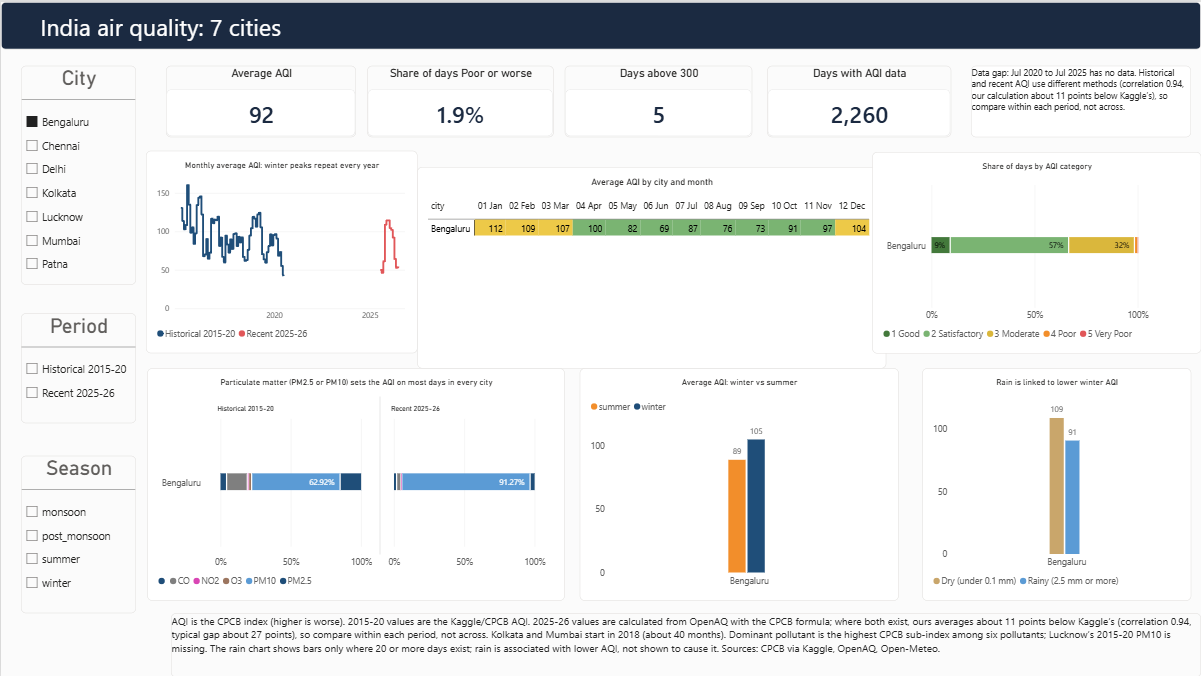

Layout of this report page (visuals, bound fields, positions):
{"tool":"powerbi","page":{"name":"Page 1","canvas":[1920,1080],"ordinal":0},"visuals":[{"type":"shape","box":[0,0,1920.1,76],"z":0},{"type":"textbox","box":[32,14,1298,62],"z":1000},{"type":"slicer","title":"City","fields":{"Values":["aqi_dashboard (2).city"]},"box":[32,102,184,350],"z":2000},{"type":"slicer","title":"Period","fields":{"Values":["aqi_dashboard (2).track"]},"box":[32,498,184,176],"z":3000},{"type":"slicer","title":"Season","fields":{"Values":["aqi_dashboard (2).season"]},"box":[32,726,184,252],"z":4000},{"type":"textbox","box":[1552,102,352,114],"z":5000},{"type":"cardVisual","title":"Average AQI","fields":{"Data":["aqi_dashboard.Average AQI"]},"box":[264,102,304,114],"z":6000},{"type":"cardVisual","title":"Share of days Poor or worse","fields":{"Data":["aqi_dashboard.Pct Poor or Worse"]},"box":[586,102,298,114],"z":7000},{"type":"cardVisual","title":"Days above 300","fields":{"Data":["aqi_dashboard.Days Above 300"]},"box":[902,102,300,114],"z":8000},{"type":"cardVisual","title":"Days with AQI data","fields":{"Data":["aqi_dashboard.Days With AQI"]},"box":[1226,102,294,114],"z":9000},{"type":"lineChart","title":"Monthly average AQI: winter peaks repeat every year","fields":{"Category":["aqi_dashboard.MonthStart"],"Series":["aqi_dashboard.track"],"Y":["aqi_dashboard.Average AQI"]},"box":[232,238,434,324],"z":10000},{"type":"pivotTable","title":"Average AQI by city and month","fields":{"Columns":["aqi_dashboard.month_label"],"Rows":["aqi_dashboard.city"],"Values":["aqi_dashboard.Average AQI"]},"box":[666,264,750,322],"z":11000},{"type":"barChart","fields":{"Category":["aqi_dashboard.city"],"Series":["aqi_dashboard.aqi_category"],"Y":["aqi_dashboard.Share of Days"]},"box":[1394,240,526,322],"z":12000},{"type":"hundredPercentStackedBarChart","title":"Particulate matter (PM2.5 or PM10) sets the AQI on most days in every city","fields":{"Category":["aqi_dashboard.city"],"Rows":["aqi_dashboard.track"],"Series":["aqi_dashboard.dominant_pollutant"],"Y":["aqi_dashboard.Dominant Share"]},"box":[234,586,668.3,371.7],"z":13000},{"type":"clusteredColumnChart","title":"Average AQI: winter vs summer","fields":{"Category":["aqi_dashboard.city"],"Series":["aqi_dashboard.season"],"Y":["aqi_dashboard.Average AQI"]},"box":[926,586,510,372],"z":14000},{"type":"clusteredColumnChart","title":"Rain is linked to lower winter AQI","fields":{"Category":["aqi_dashboard.city"],"Series":["aqi_dashboard.rain_group"],"Y":["aqi_dashboard.Avg AQI Min20"]},"box":[1474,586,430,372],"z":15000},{"type":"textbox","box":[272,978,1648,102],"z":16000}]}

Visuals, with their boxes in screenshot pixels (x1, y1, x2, y2), scaled from the page's 1920x1080 canvas onto the 1201x676 screenshot:
shape: detection(0, 0, 1200, 48)
textbox: detection(20, 9, 832, 48)
"City" slicer: detection(20, 64, 135, 283)
"Period" slicer: detection(20, 312, 135, 422)
"Season" slicer: detection(20, 454, 135, 612)
textbox: detection(971, 64, 1191, 135)
"Average AQI" cardVisual: detection(165, 64, 355, 135)
"Share of days Poor or worse" cardVisual: detection(367, 64, 553, 135)
"Days above 300" cardVisual: detection(564, 64, 752, 135)
"Days with AQI data" cardVisual: detection(767, 64, 951, 135)
"Monthly average AQI: winter peaks repeat every year" lineChart: detection(145, 149, 417, 352)
"Average AQI by city and month" pivotTable: detection(417, 165, 886, 367)
barChart - aqi_dashboard.city x aqi_dashboard.aqi_category: detection(872, 150, 1200, 352)
"Particulate matter (PM2.5 or PM10) sets the AQI on most days in every city" hundredPercentStackedBarChart: detection(146, 367, 564, 599)
"Average AQI: winter vs summer" clusteredColumnChart: detection(579, 367, 898, 600)
"Rain is linked to lower winter AQI" clusteredColumnChart: detection(922, 367, 1191, 600)
textbox: detection(170, 612, 1200, 675)
